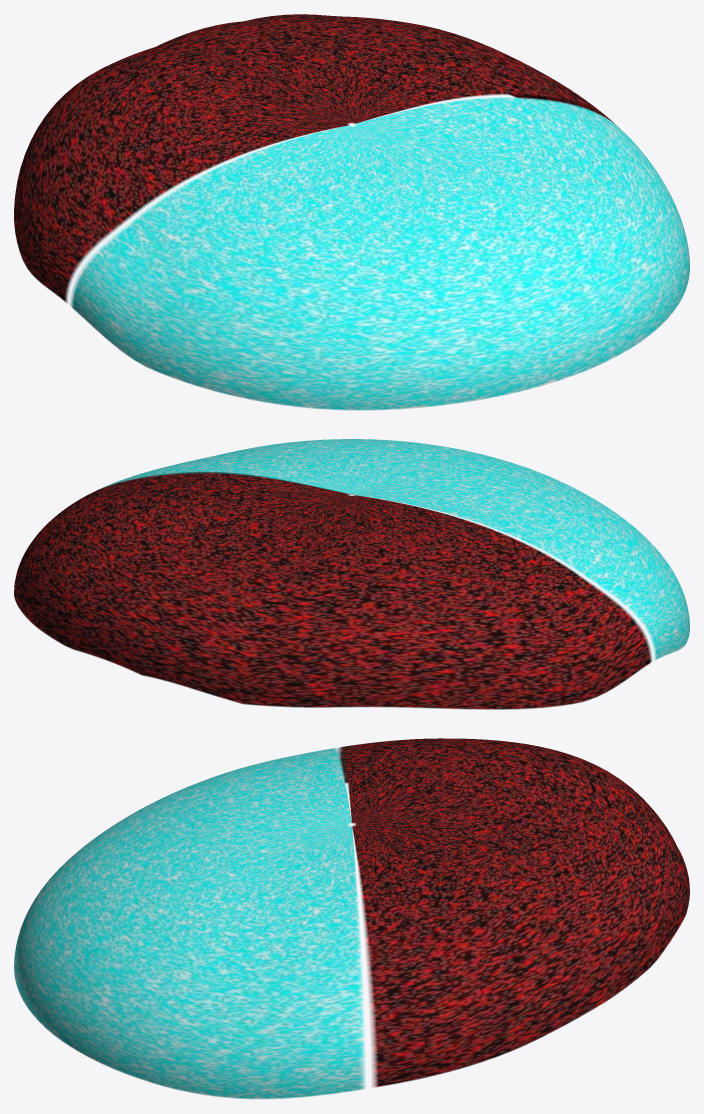
3 renders of one model, top to bottom at view 1: azimuth 30°, elevation 25°; view 2: azimuth 150°, elevation 25°; view 3: azimuth 270°, elevation 25°, orthographic.
Parts seen in each view (by area): view 1: SM_VFX_VillageDome_LOD0; view 2: SM_VFX_VillageDome_LOD0; view 3: SM_VFX_VillageDome_LOD0.
Part boxes in pixels (x1=…): SM_VFX_VillageDome_LOD0: x1=14, y1=14, x2=689, y2=410; SM_VFX_VillageDome_LOD0: x1=14, y1=439, x2=689, y2=709; SM_VFX_VillageDome_LOD0: x1=14, y1=738, x2=689, y2=1099.
Size of the model in its own units: 142 by 36.37 by 142.
1 material, 1 textured.
